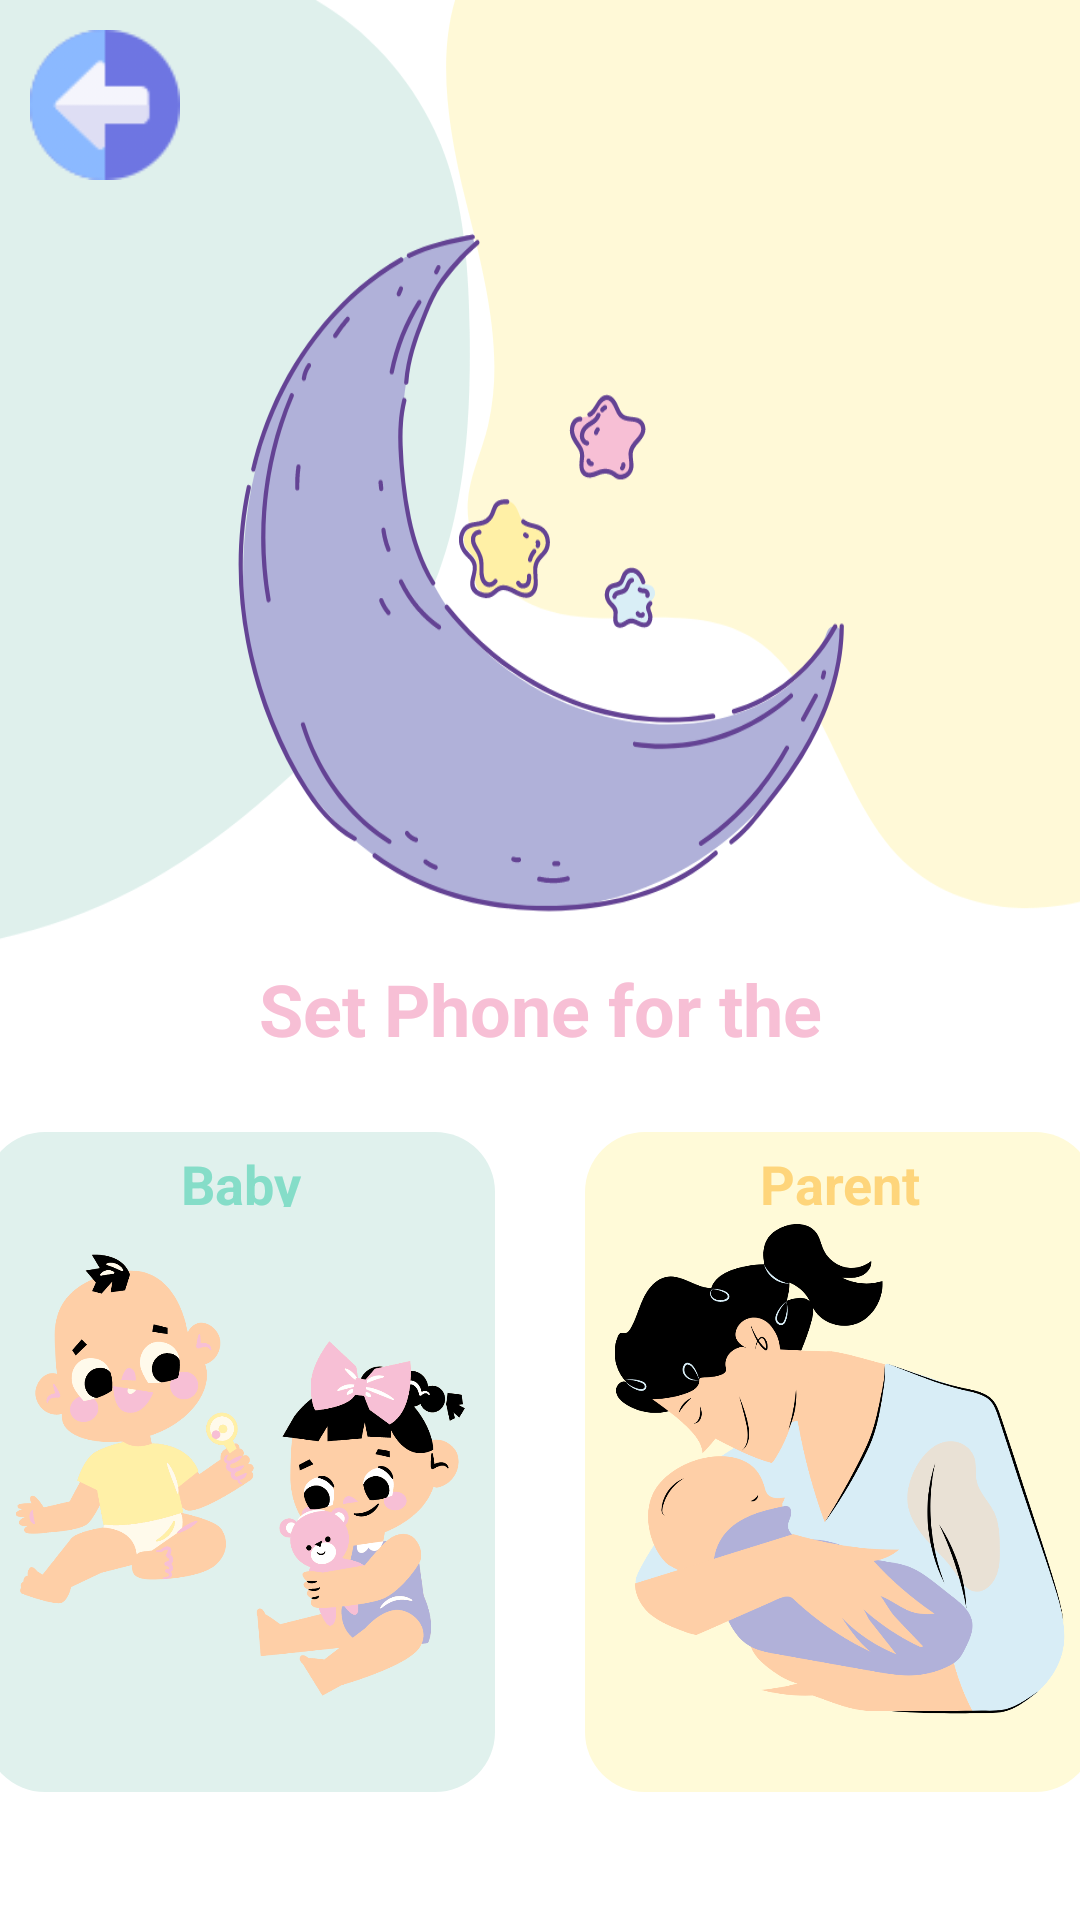

Point at icon controls on the screen. Image size 1080 × 1920, points as (x=x, y=y).
back: (x=105, y=105)
